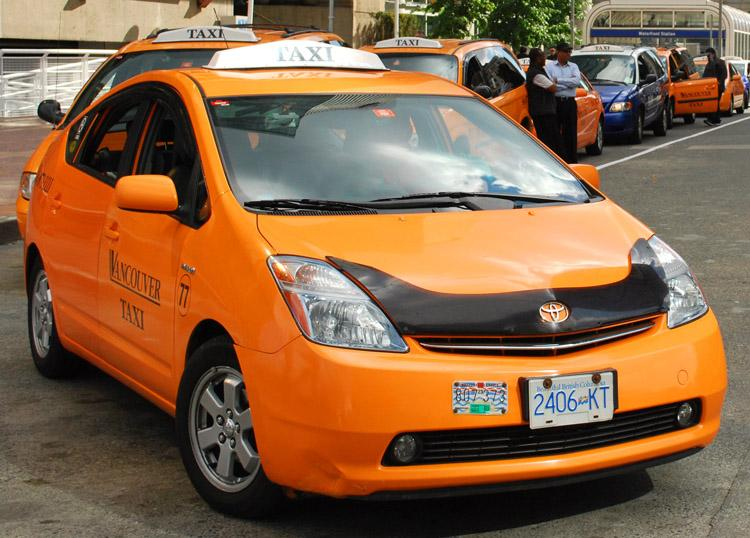licence: (521, 373, 623, 429)
